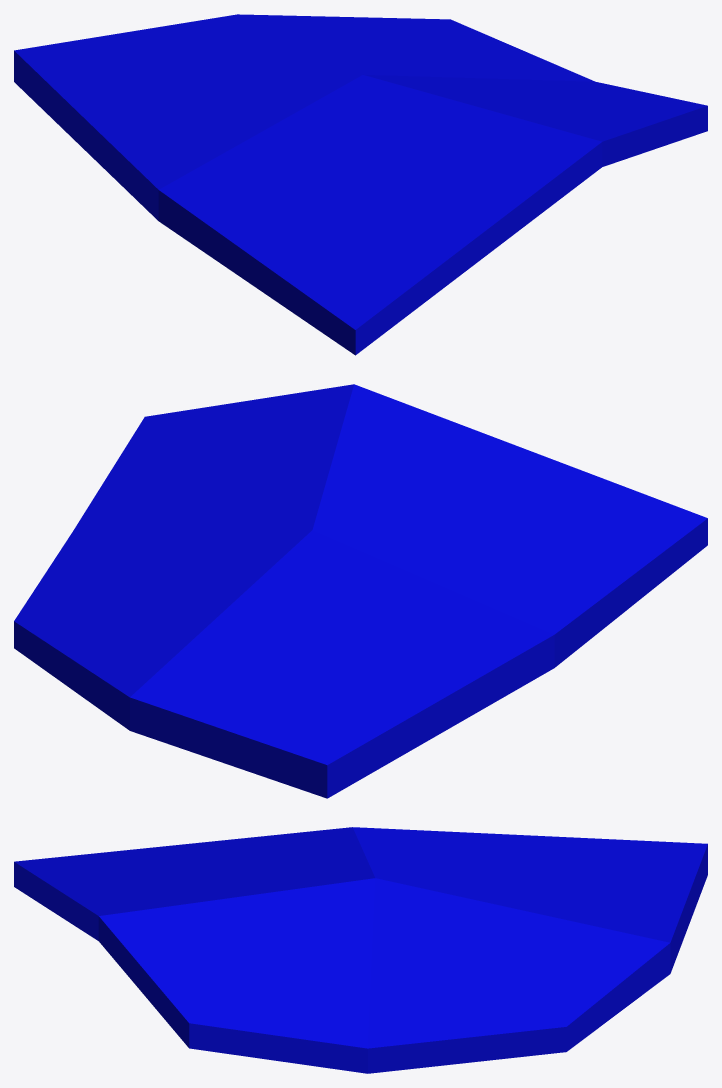
Rendered from komono28.fbx.
3 renders of one model, top to bottom at view 1: azimuth 30°, elevation 25°; view 2: azimuth 150°, elevation 25°; view 3: azimuth 270°, elevation 25°, orthographic. The views are drawn at different scales.
Parts seen in each view (by area): view 1: Cube.005; view 2: Cube.005; view 3: Cube.005.
Part boxes in pixels (bbox=[...]): Cube.005: bbox=[14, 14, 707, 355]; Cube.005: bbox=[14, 384, 707, 798]; Cube.005: bbox=[14, 827, 707, 1073].
Size of the model in its own units: 331 by 75.78 by 429.
